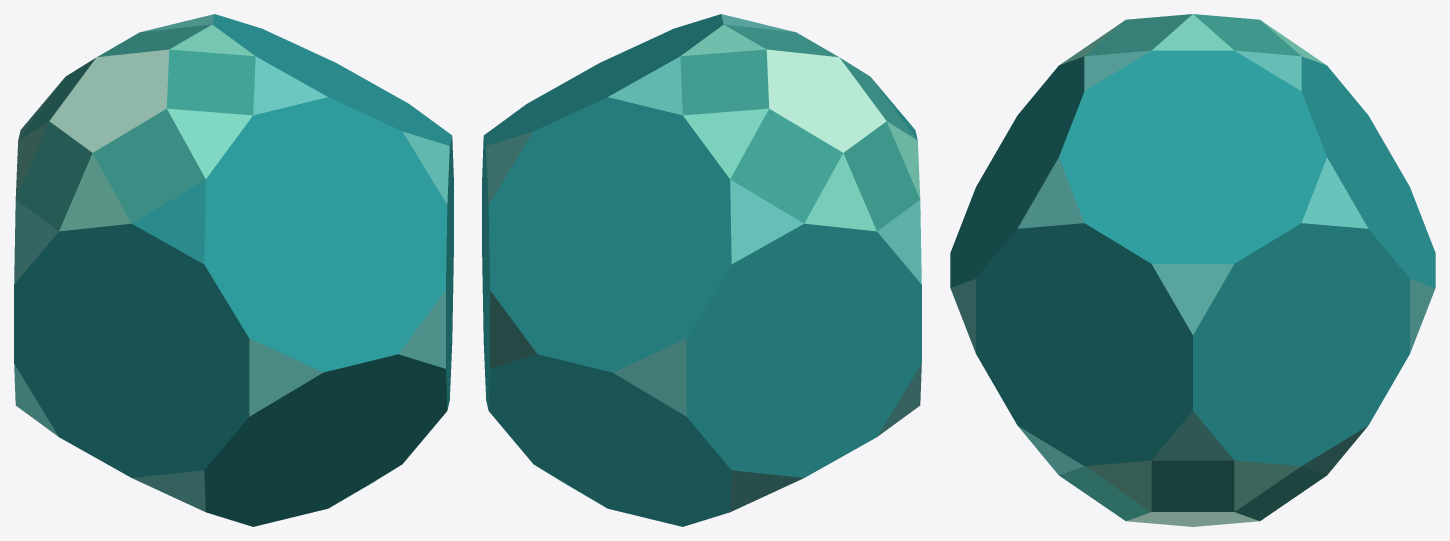
Rendered from J69DodecaedroTruncadoParabiaumentado.gltf.
3 views of the same model, side by side, from view 1: azimuth 30°, elevation 25°; view 2: azimuth 150°, elevation 25°; view 3: azimuth 270°, elevation 25° (orthographic). The views are drawn at different scales.
Parts seen in each view (by area): view 1: J69DodecaedroTruncadoParabiaumentado; view 2: J69DodecaedroTruncadoParabiaumentado; view 3: J69DodecaedroTruncadoParabiaumentado.
Boxes of the visible parts, left/top/right/bottom form: J69DodecaedroTruncadoParabiaumentado: left=14, top=14, right=453, bottom=526; J69DodecaedroTruncadoParabiaumentado: left=482, top=14, right=921, bottom=526; J69DodecaedroTruncadoParabiaumentado: left=950, top=14, right=1435, bottom=526.
Size of the model in its own units: 18.68 by 19.23 by 18.68.
